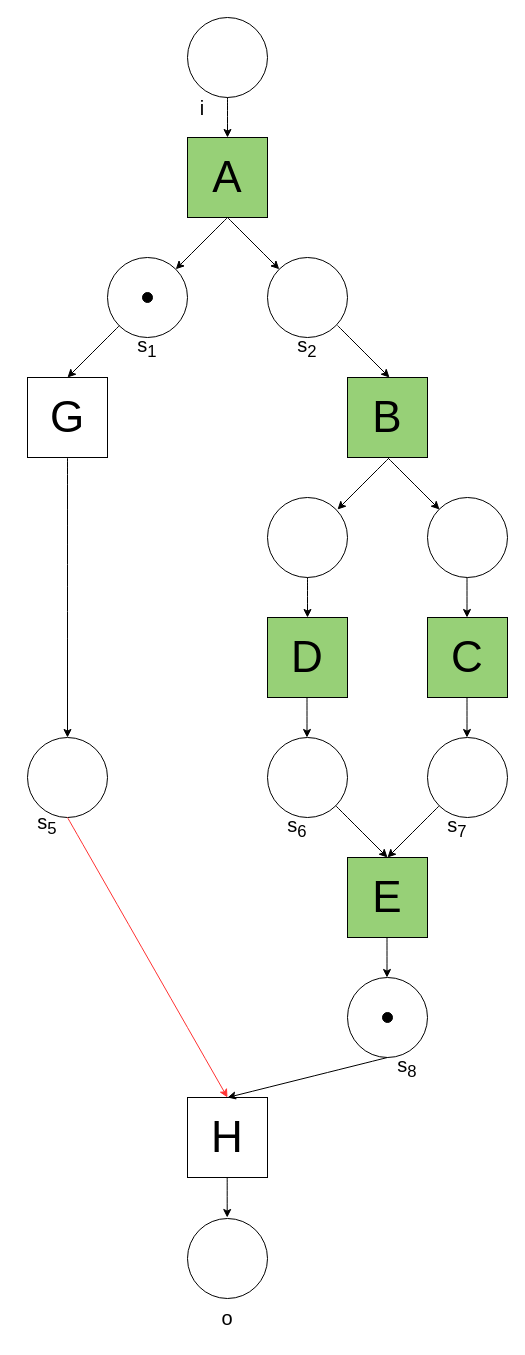
Image size: 525x1355. Some labels were removed from this diagram. The shapes that lost their labels are listed below. From the top down, each one's box as (x1, y1, x2, y2) in pixels, then its label:
(266, 496, 348, 578): s 3
(426, 496, 508, 578): s 4
